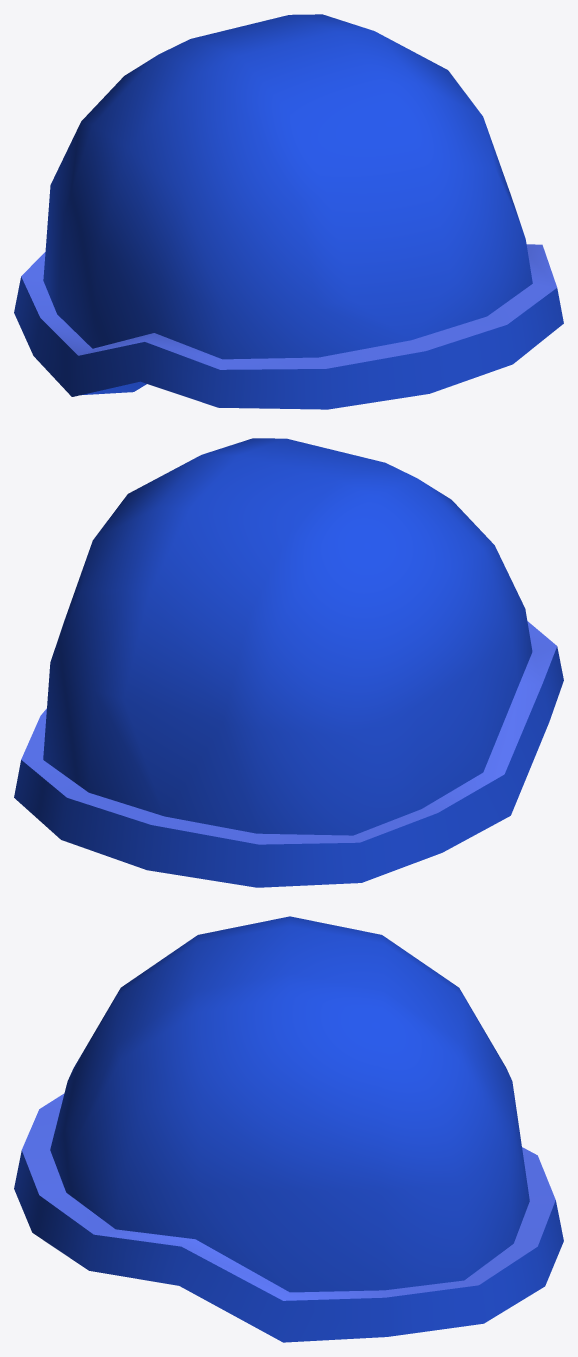
File: Head_8.fbx
3 renders of one model, top to bottom at view 1: azimuth 30°, elevation 25°; view 2: azimuth 150°, elevation 25°; view 3: azimuth 270°, elevation 25°, orthographic. The views are drawn at different scales.
Visible parts, largest first — view 1: Cube.011; view 2: Cube.011; view 3: Cube.011.
Boxes of the visible parts, box(x1,y1,x2,y2) form: Cube.011: box(14, 14, 563, 409); Cube.011: box(14, 438, 563, 887); Cube.011: box(14, 916, 563, 1342).
Bounding box in the file's own units: 55.86 × 37.93 × 62.31.
